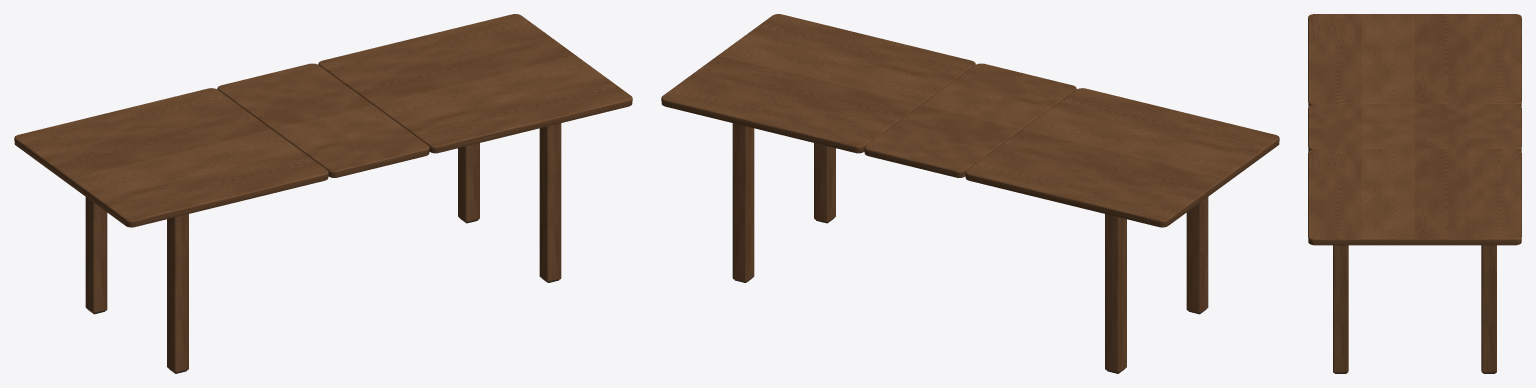
3 views of the same model, side by side, from view 1: azimuth 30°, elevation 25°; view 2: azimuth 150°, elevation 25°; view 3: azimuth 270°, elevation 25° (orthographic). The views are drawn at different scales.
Parts seen in each view (by area): view 1: Walnut extension leaf, Walnut extension leaf.002, Walnut extension leaf.001, Walnut square leg.002, Walnut square leg, Walnut square leg.001, Walnut square leg.003; view 2: Walnut extension leaf, Walnut extension leaf.002, Walnut extension leaf.001, Walnut square leg.003, Walnut square leg.001, Walnut square leg, Walnut square leg.002; view 3: Walnut extension leaf.002, Walnut extension leaf, Walnut extension leaf.001, Walnut square leg.002, Walnut square leg.003.
Boxes of the visible parts, x1,y1,x2,y2 form: Walnut extension leaf: (14,88,328,227); Walnut extension leaf.002: (318,14,632,153); Walnut extension leaf.001: (217,63,429,177); Walnut square leg.002: (539,123,561,282); Walnut square leg: (167,214,188,372); Walnut square leg.001: (85,197,107,313); Walnut square leg.003: (458,143,479,222); Walnut extension leaf: (965,88,1279,227); Walnut extension leaf.002: (661,14,975,153); Walnut extension leaf.001: (864,63,1076,177); Walnut square leg.003: (732,123,754,282); Walnut square leg.001: (1105,214,1126,372); Walnut square leg: (1186,197,1208,313); Walnut square leg.002: (814,143,835,222); Walnut extension leaf.002: (1308,149,1521,245); Walnut extension leaf: (1308,14,1521,106); Walnut extension leaf.001: (1308,104,1521,151); Walnut square leg.002: (1333,245,1348,373); Walnut square leg.003: (1481,245,1496,373).
Bounding box in the file's own units: 2.25 × 0.755 × 0.9.
Materials: 8 (2 with a texture image).
